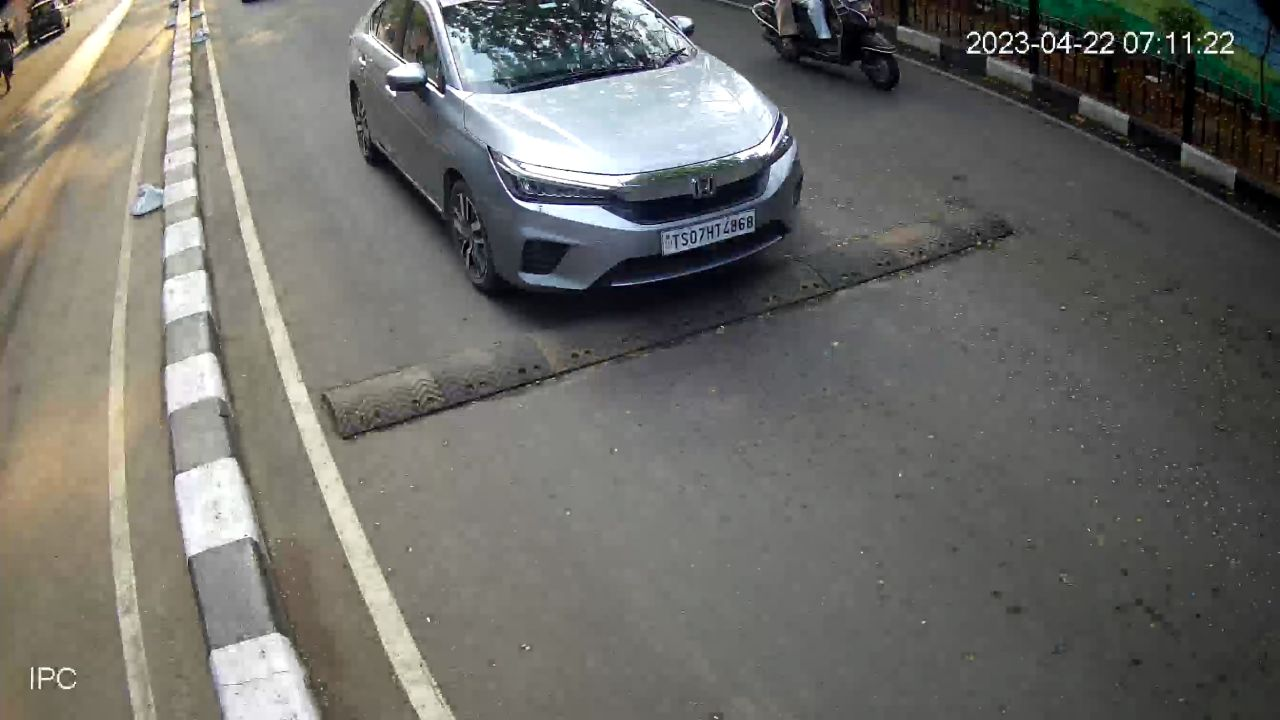license_plate: (657, 205, 760, 263)
